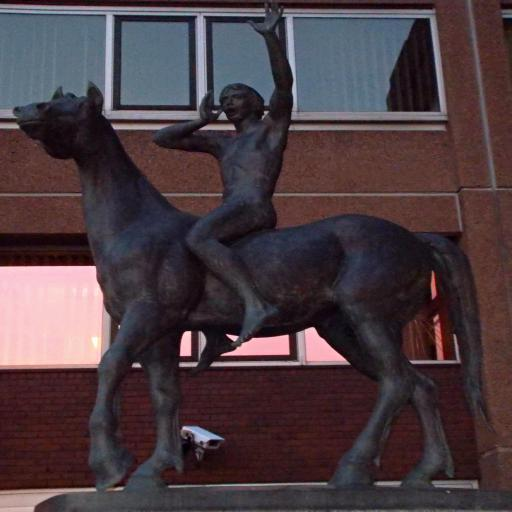horse: (8, 81, 494, 489)
